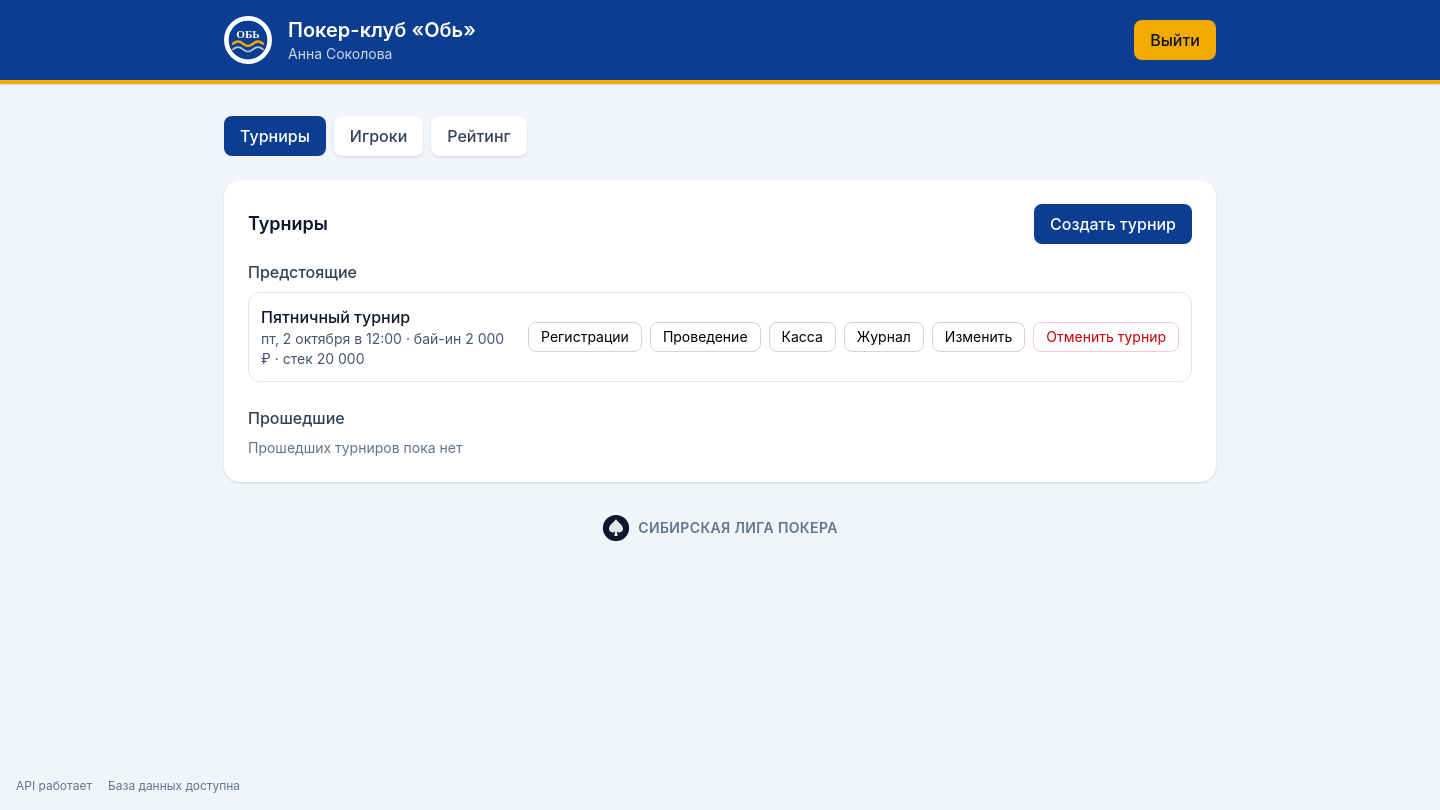
Test: tournament registrations › closes registration to players, still registers them itself, and opens it again
Click the button "Регистрации". click: (585, 337)
box: [528,322,642,352]
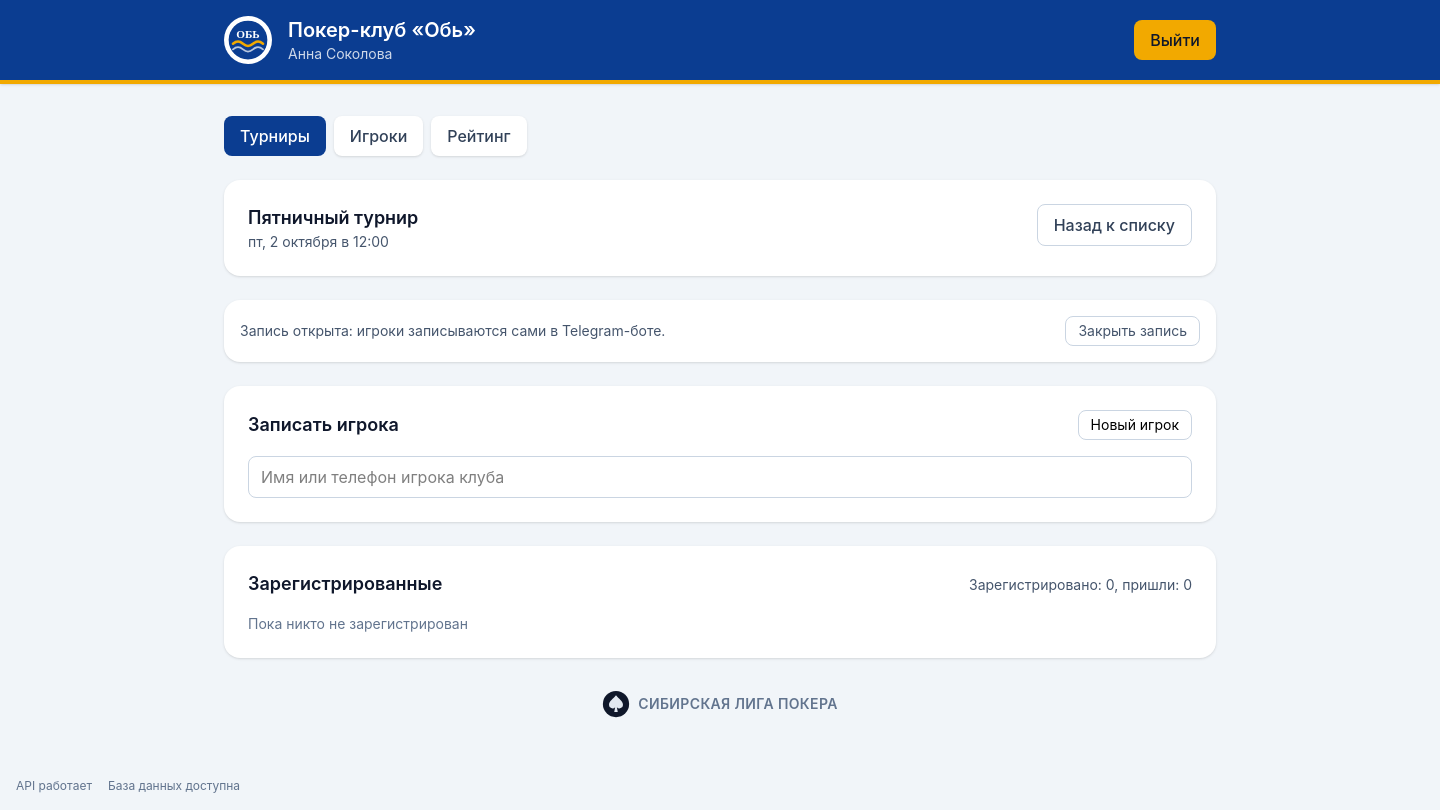
Check: the heading "Пятничный турнир" is shown, box [248,204,418,232]
Click the button "Закрыть запись". click: (1133, 331)
box: [1065,316,1200,346]
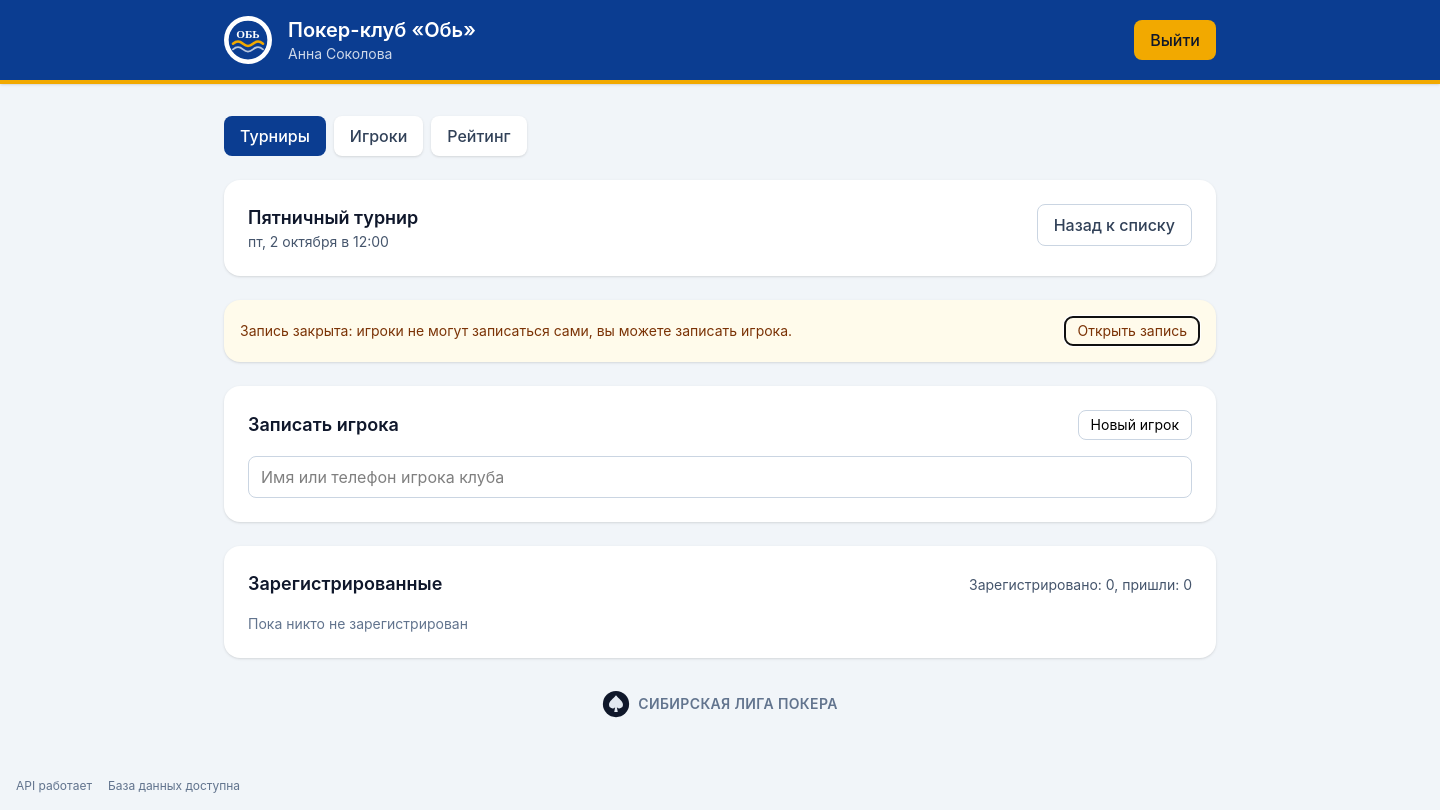
Check: the search field named "Найти игрока клуба" is shown, box [248,456,1192,498]
Check: the text "Запись закрыта: игроки не могут записаться сами, вы можете записать игрока." is shown, box [240,321,792,341]
Click the button "Открыть запись". click: (1132, 331)
box: [1064,316,1200,346]
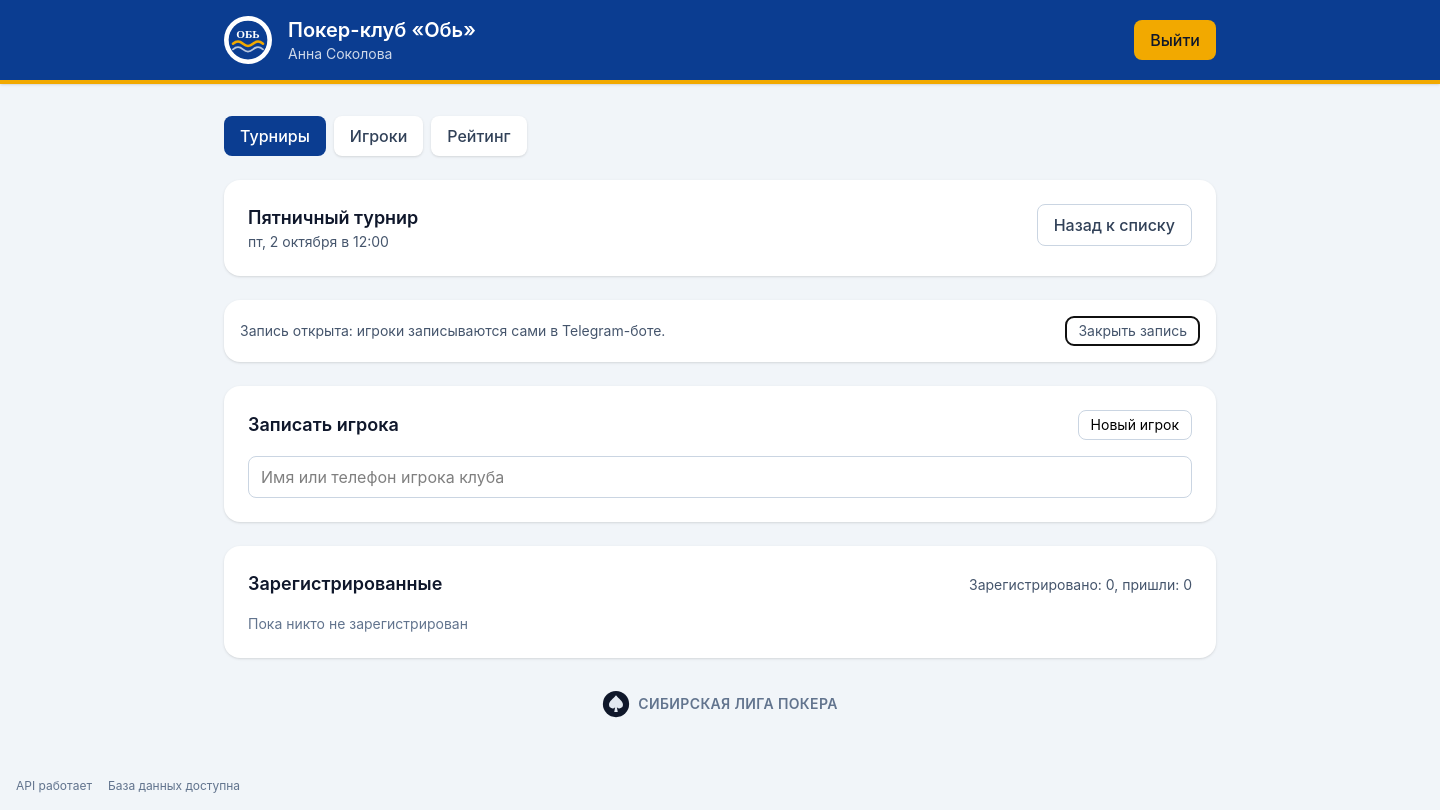
Check: the button "Закрыть запись" is shown, box [1065,316,1200,346]
